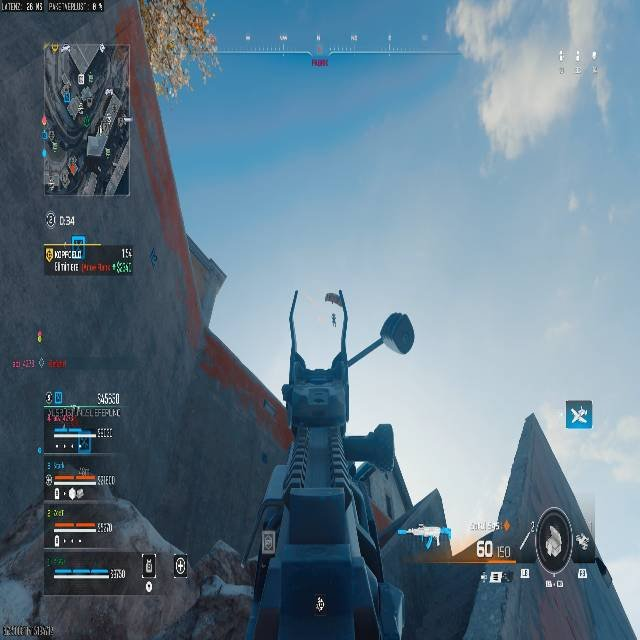head: (29, 4, 636, 636)
